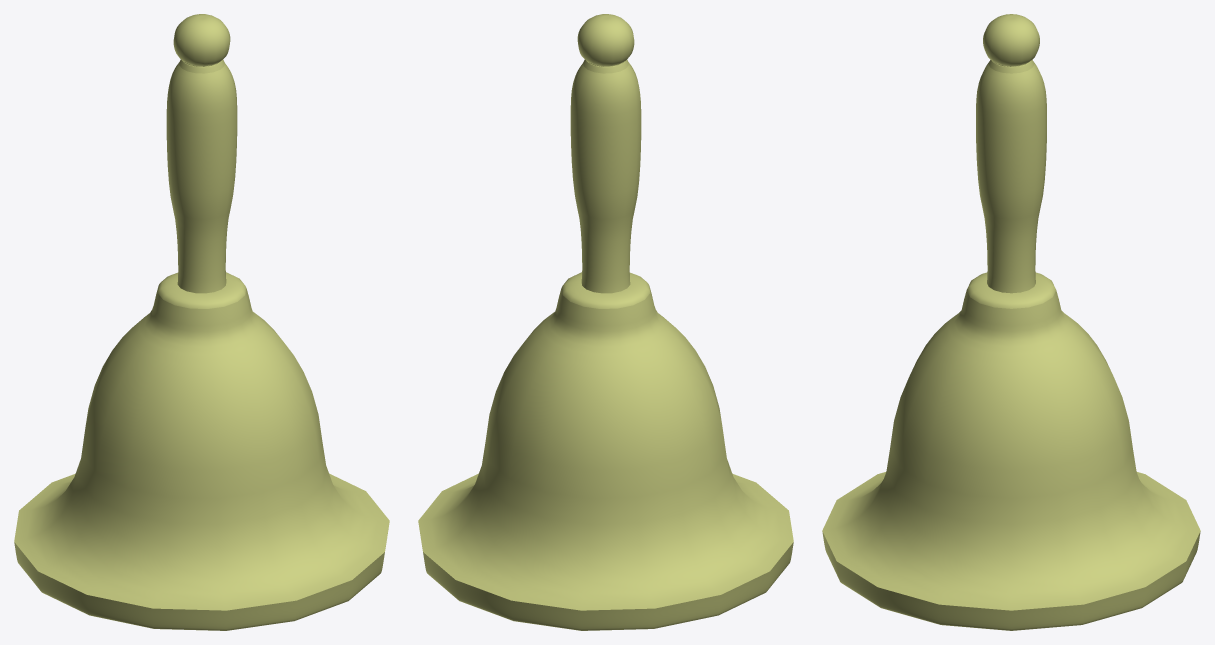
File: bell.fbx
3 renders of one model, left to right at view 1: azimuth 30°, elevation 25°; view 2: azimuth 150°, elevation 25°; view 3: azimuth 270°, elevation 25°, orthographic.
Visible parts, largest first — view 1: d handle; view 2: d handle; view 3: d handle.
Boxes of the visible parts, left/top/right/bottom form: d handle: left=14, top=14, right=389, bottom=630; d handle: left=418, top=14, right=793, bottom=630; d handle: left=822, top=14, right=1200, bottom=630.
Size of the model in its own units: 11.78 by 18.38 by 11.78.
